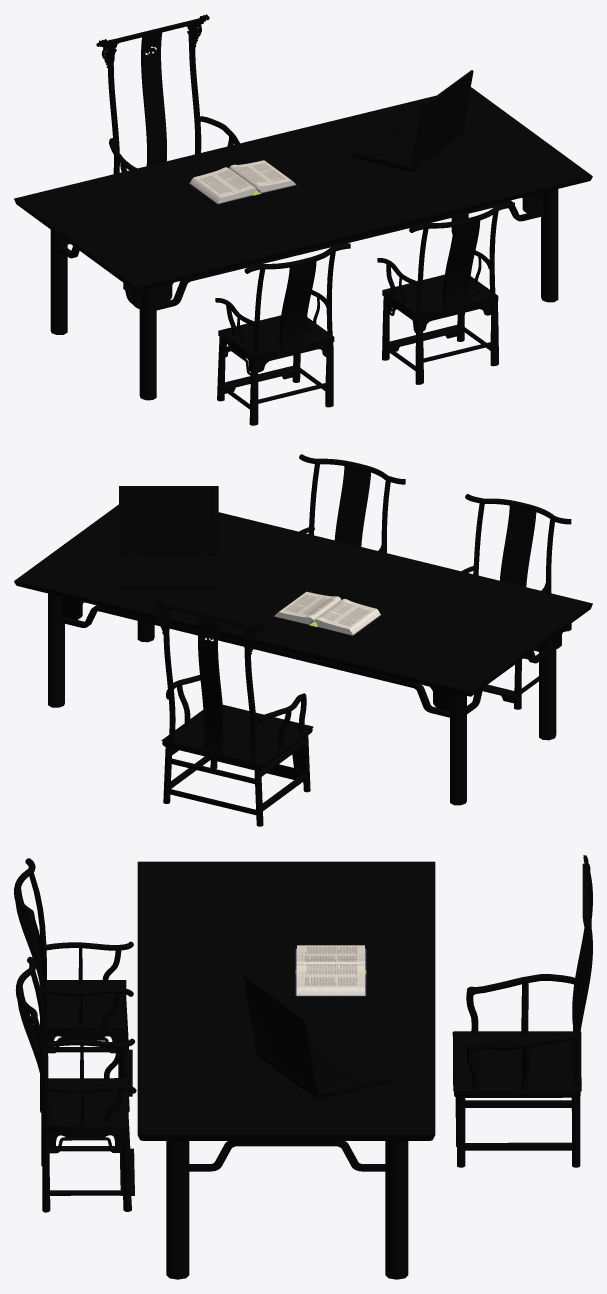
The model's file is desk.obj.
3 renders of one model, top to bottom at view 1: azimuth 30°, elevation 25°; view 2: azimuth 150°, elevation 25°; view 3: azimuth 270°, elevation 25°, orthographic. The views are drawn at different scales.
Parts seen in each view (by area): view 1: Rectangle01, Arch35_052_06_01, Box04, Box26, Box52, Cylinder01, Cylinder12, Box01, Cylinder11, Line15, Box25, Box51 (+15 smaller); view 2: Rectangle01, Box01, Shape01, Cylinder02, Box04, Line44, Box26, Box52, Arch35_052_05_07, Cylinder11, Cylinder13, Arch35_052_06_01 (+8 smaller); view 3: Rectangle01, Box01, Cylinder02, Arch35_052_06_01, Cylinder13, Cylinder01, Box51, Box25, Arch35_052_05_07, Line45, Object43, Shape03 (+15 smaller).
Boxes of the visible parts, left/top/right/bottom form: Rectangle01: left=14, top=87, right=592, bottom=291; Arch35_052_06_01: left=411, top=70, right=473, bottom=166; Box04: left=141, top=32, right=166, bottom=165; Box26: left=279, top=261, right=316, bottom=349; Box52: left=443, top=220, right=480, bottom=309; Cylinder01: left=541, top=189, right=558, bottom=302; Cylinder12: left=139, top=287, right=156, bottom=400; Box01: left=103, top=18, right=203, bottom=173; Cylinder11: left=50, top=230, right=67, bottom=334; Line15: left=156, top=200, right=543, bottom=310; Box25: left=218, top=315, right=334, bottom=361; Box51: left=382, top=274, right=498, bottom=320; Rectangle01: left=14, top=504, right=592, bottom=696; Box01: left=157, top=602, right=313, bottom=769; Shape01: left=125, top=489, right=376, bottom=628; Cylinder02: left=163, top=675, right=310, bottom=826; Box04: left=198, top=617, right=223, bottom=754; Line44: left=60, top=605, right=449, bottom=717; Box26: left=500, top=505, right=536, bottom=586; Box52: left=334, top=465, right=370, bottom=546; Arch35_052_05_07: left=119, top=556, right=218, bottom=586; Cylinder11: left=450, top=691, right=466, bottom=805; Cylinder13: left=48, top=593, right=64, bottom=707; Arch35_052_06_01: left=119, top=486, right=218, bottom=554; Rectangle01: left=137, top=861, right=435, bottom=1140; Box01: left=452, top=863, right=592, bottom=1097; Cylinder02: left=457, top=974, right=580, bottom=1167; Arch35_052_06_01: left=243, top=975, right=318, bottom=1093; Cylinder13: left=385, top=1141, right=408, bottom=1279; Cylinder01: left=166, top=1141, right=189, bottom=1279; Box51: left=41, top=1078, right=128, bottom=1132; Box25: left=40, top=980, right=126, bottom=1034; Arch35_052_05_07: left=309, top=1032, right=391, bottom=1093; Line45: left=189, top=1141, right=385, bottom=1171; Object43: left=57, top=1086, right=118, bottom=1120; Shape03: left=297, top=964, right=364, bottom=986.
Bounding box in the file's own units: 111 × 47.5 × 99.25.
7 materials, 3 textured.
